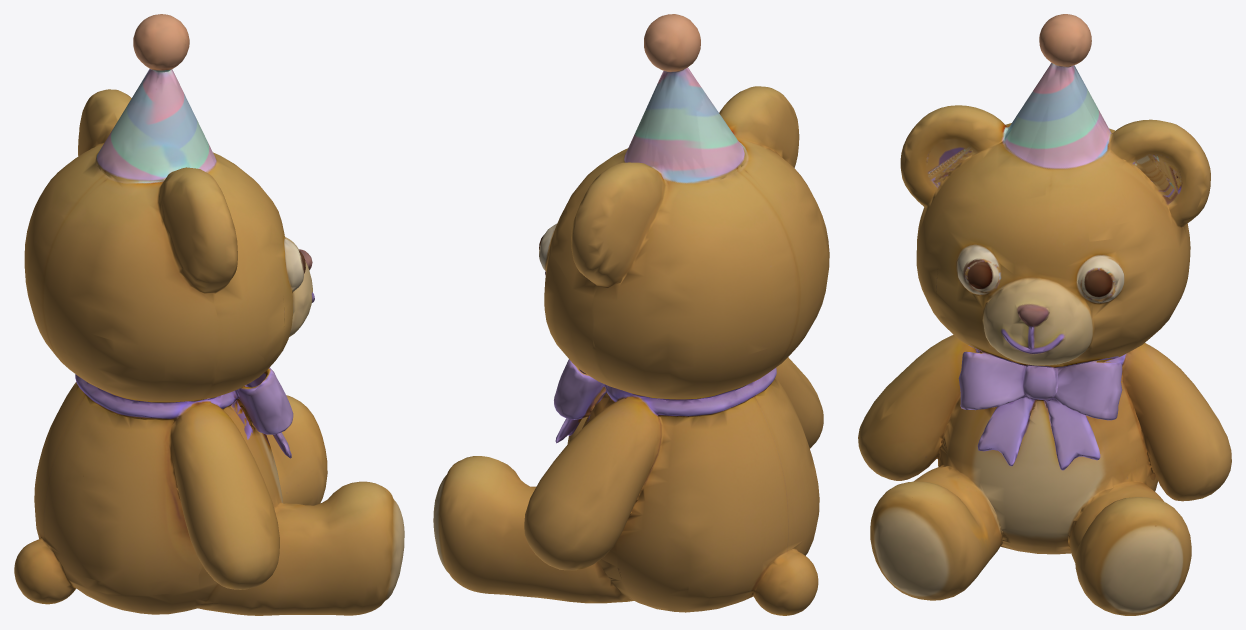
The picture shows the model from 3 angles, left to right: view 1: azimuth 30°, elevation 25°; view 2: azimuth 150°, elevation 25°; view 3: azimuth 270°, elevation 25°; orthographic projection. The views are drawn at different scales.
Parts seen in each view (by area): view 1: repaired; view 2: repaired; view 3: repaired.
Part boxes in pixels (box(x1,y1,x2,y2)): repaired: box(14, 14, 404, 615); repaired: box(433, 14, 829, 615); repaired: box(858, 14, 1231, 615).
Size of the model in its own units: 0.6078 by 0.9994 by 0.64.
Materials: 1 (1 with a texture image).
